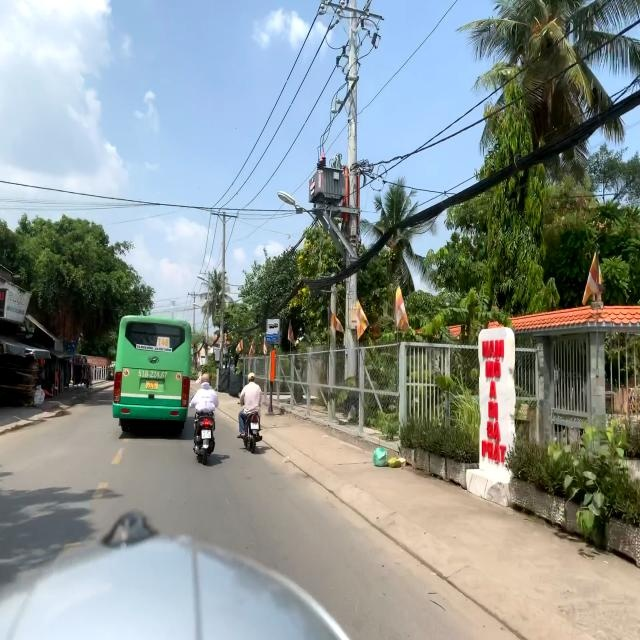bien_chi_dan: (266, 320, 280, 344)
